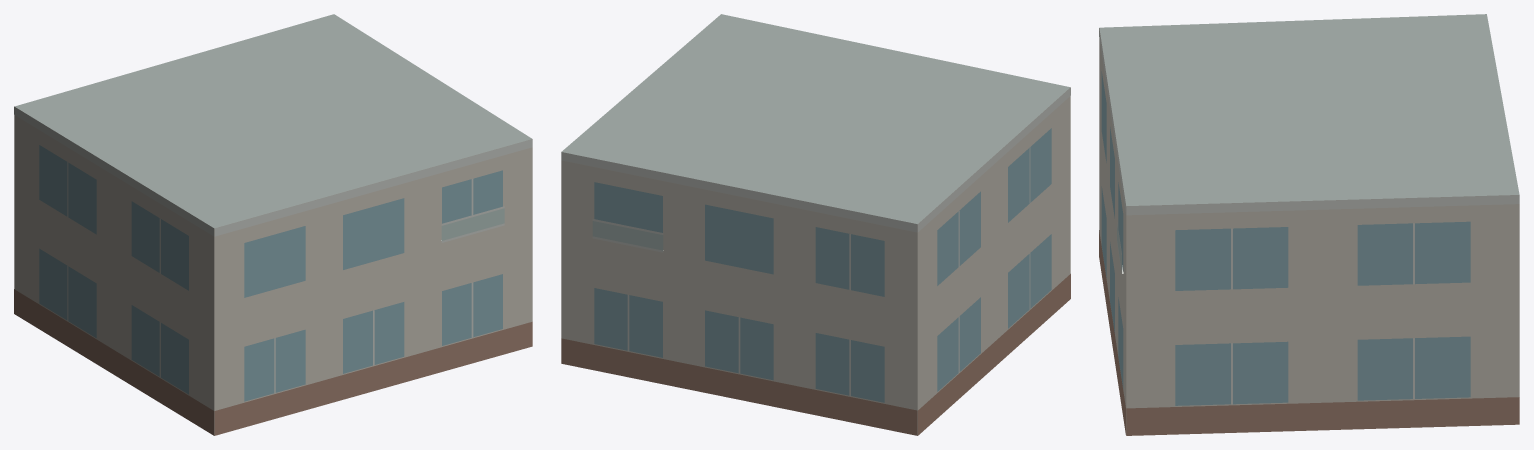
Rendered from survey-upis-32702525.glb.
3 views of the same model, side by side, from view 1: azimuth 30°, elevation 25°; view 2: azimuth 150°, elevation 25°; view 3: azimuth 270°, elevation 25° (orthographic). The views are drawn at different scales.
Parts seen in each view (by area): view 1: survey-upis-32702525.tmp; view 2: survey-upis-32702525.tmp; view 3: survey-upis-32702525.tmp.
Boxes of the visible parts, x1,y1,x2,y2 form: survey-upis-32702525.tmp: [14, 14, 532, 435]; survey-upis-32702525.tmp: [561, 14, 1070, 435]; survey-upis-32702525.tmp: [1099, 14, 1519, 435].
Bounding box in the file's own units: 10.95 × 6.1 × 10.13.
